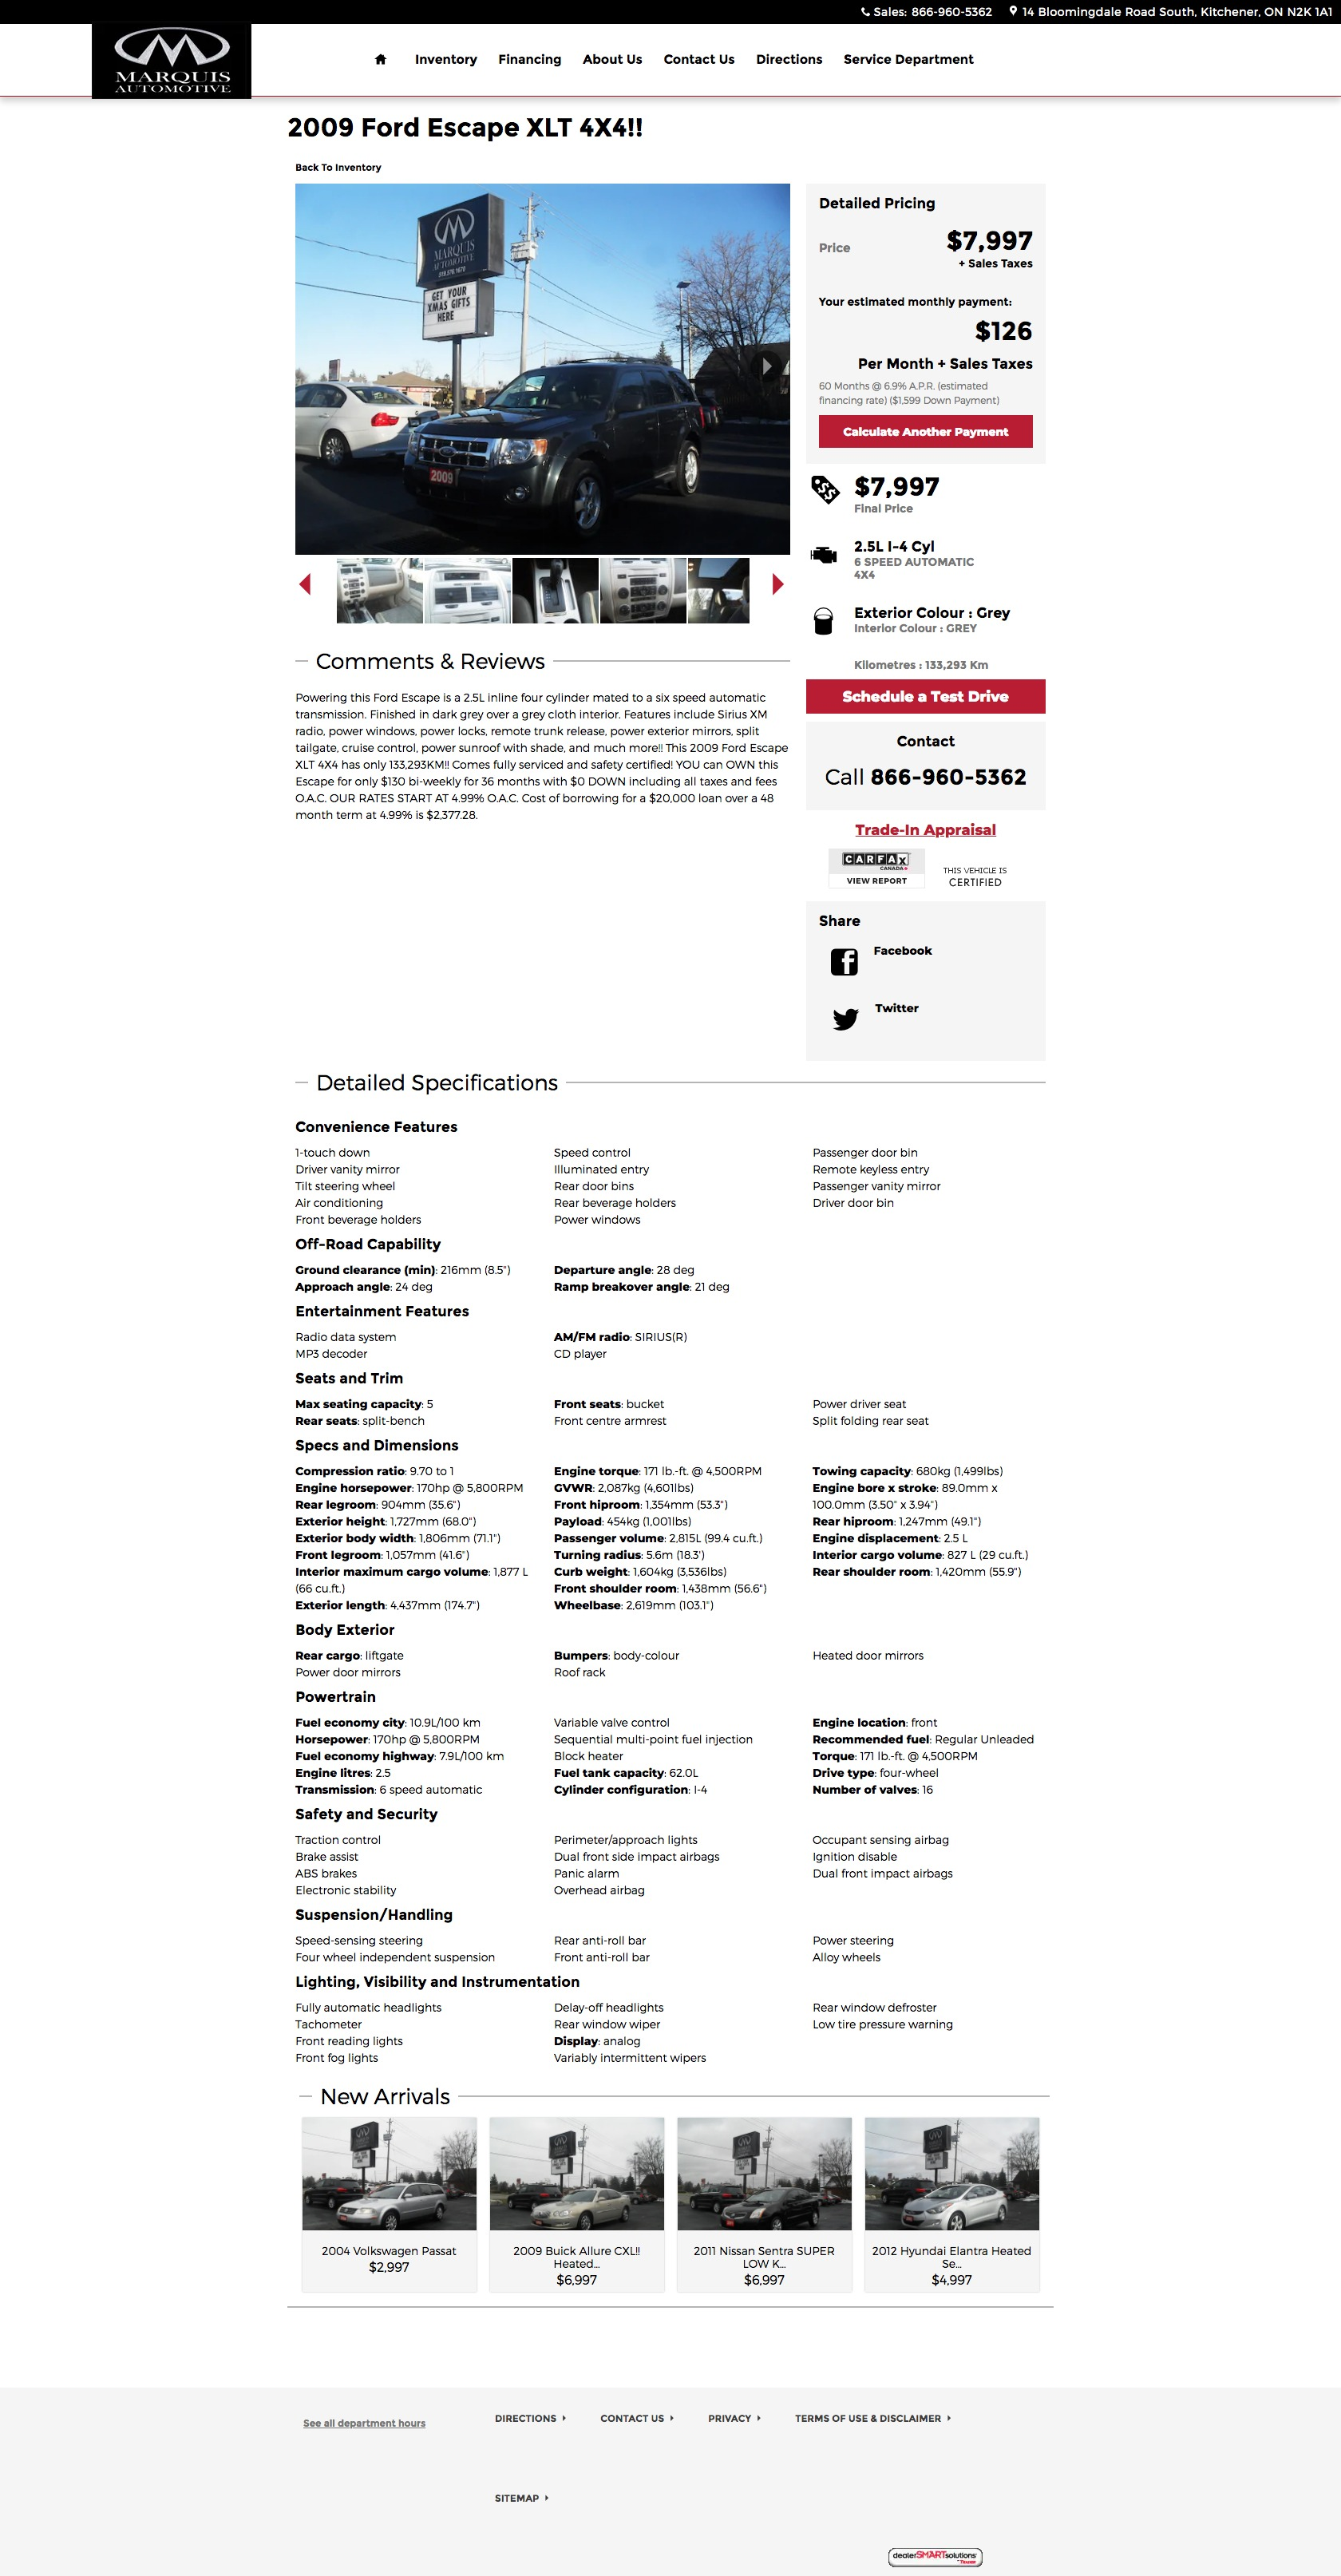car: (772, 572, 786, 596)
